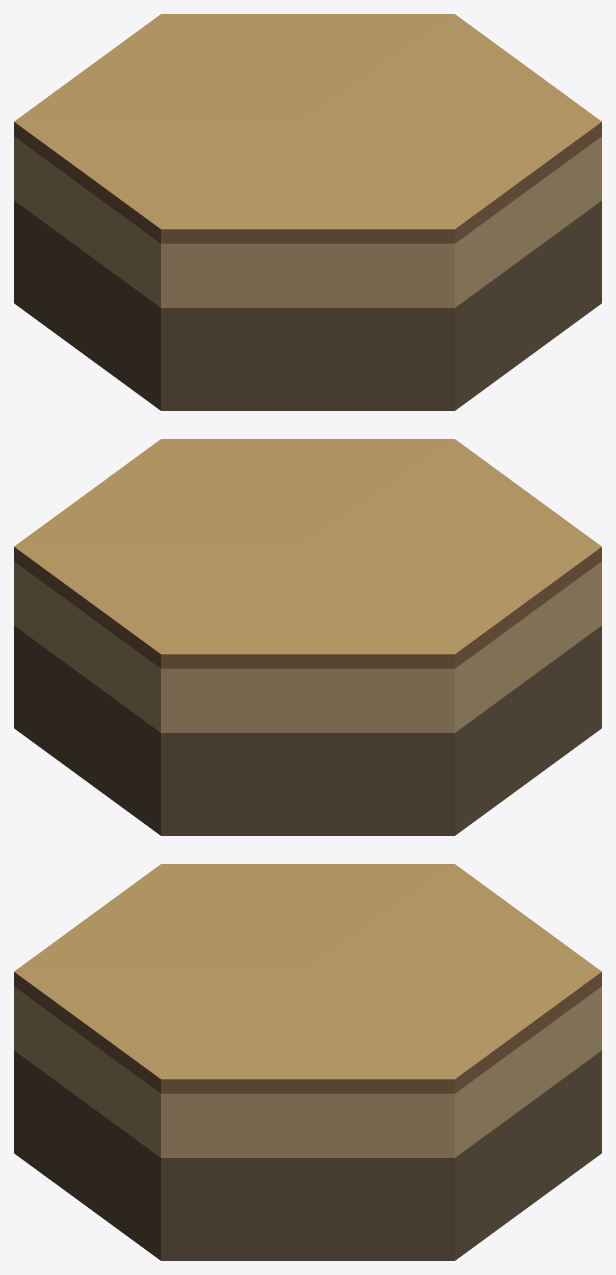
The model's file is AW-HEX-AUTUMN-v0.1.glb.
The picture shows the model from 3 angles, top to bottom: view 1: azimuth 30°, elevation 25°; view 2: azimuth 150°, elevation 25°; view 3: azimuth 270°, elevation 25°; orthographic projection.
Parts seen in each view (by area): view 1: AW-HEX-AUTUMN-v01; view 2: AW-HEX-AUTUMN-v01; view 3: AW-HEX-AUTUMN-v01.
Part boxes in pixels (x1,y1,x2,y2): AW-HEX-AUTUMN-v01: (14, 14, 601, 410); AW-HEX-AUTUMN-v01: (14, 439, 601, 835); AW-HEX-AUTUMN-v01: (14, 864, 601, 1260).
Bounding box in the file's own units: 3.81 × 1.54 × 4.4.
